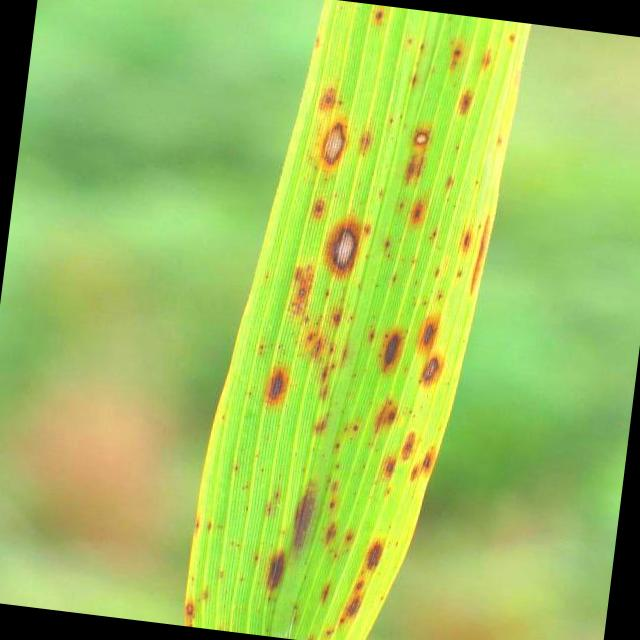Rice_Brownspot: (272, 472, 331, 564), (324, 210, 371, 272), (367, 314, 411, 372), (313, 114, 354, 174), (331, 568, 368, 632), (255, 354, 295, 412), (251, 550, 296, 600), (366, 385, 411, 435), (358, 526, 401, 576), (397, 189, 441, 230), (411, 304, 447, 354), (466, 208, 486, 294), (307, 75, 348, 112), (417, 346, 448, 388), (433, 33, 462, 76), (394, 422, 419, 462), (448, 218, 473, 258), (400, 123, 437, 149), (416, 438, 438, 481), (373, 449, 402, 479), (174, 598, 200, 626), (452, 84, 474, 115), (362, 3, 390, 27), (475, 44, 499, 70), (507, 30, 517, 44)
